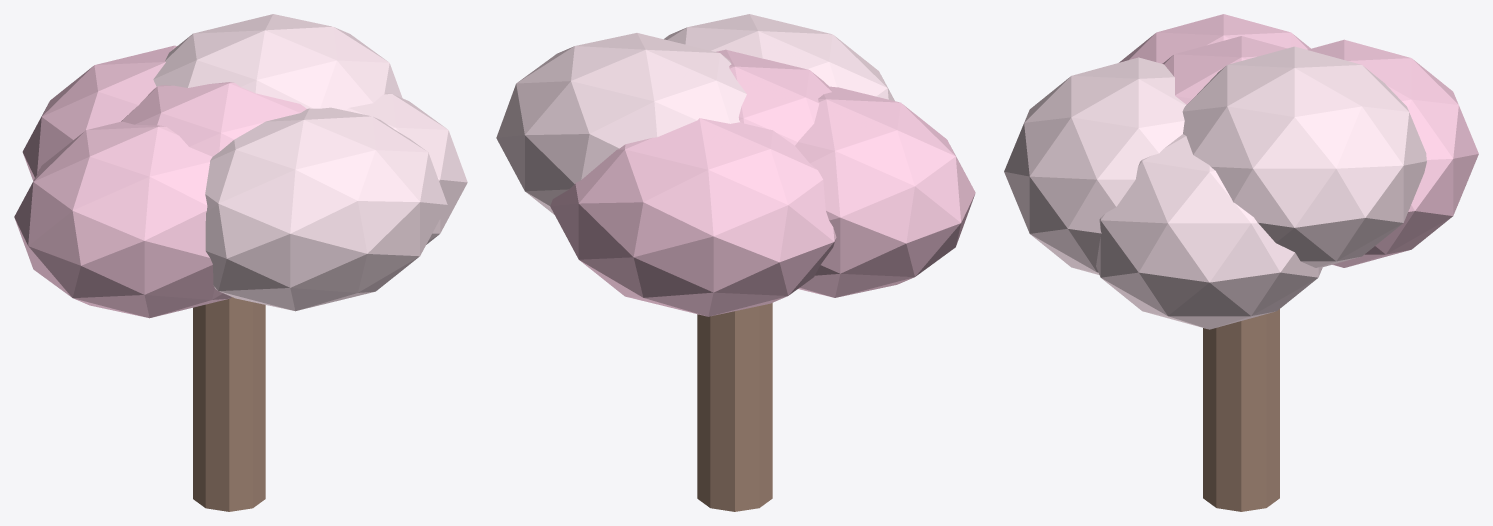
Rendered from tree_sakura.glb.
3 views of the same model, side by side, from view 1: azimuth 30°, elevation 25°; view 2: azimuth 150°, elevation 25°; view 3: azimuth 270°, elevation 25° (orthographic). The views are drawn at different scales.
Visible parts, largest first — view 1: tree_sakura_4, tree_sakura_3, tree_sakura_6, tree_sakura_0, tree_sakura_5, tree_sakura_1, tree_sakura_2; view 2: tree_sakura_5, tree_sakura_3, tree_sakura_6, tree_sakura_0, tree_sakura_4, tree_sakura_1; view 3: tree_sakura_6, tree_sakura_2, tree_sakura_4, tree_sakura_0, tree_sakura_5, tree_sakura_3, tree_sakura_1.
Part boxes in pixels (bbox=[...]): tree_sakura_4: bbox=[205, 107, 447, 311]; tree_sakura_3: bbox=[14, 121, 231, 318]; tree_sakura_6: bbox=[153, 14, 402, 110]; tree_sakura_0: bbox=[193, 297, 265, 511]; tree_sakura_5: bbox=[22, 45, 176, 180]; tree_sakura_1: bbox=[121, 82, 306, 156]; tree_sakura_2: bbox=[346, 93, 467, 244]; tree_sakura_5: bbox=[550, 118, 836, 316]; tree_sakura_3: bbox=[795, 86, 975, 297]; tree_sakura_6: bbox=[496, 33, 746, 214]; tree_sakura_0: bbox=[697, 303, 772, 511]; tree_sakura_4: bbox=[664, 14, 894, 100]; tree_sakura_1: bbox=[716, 49, 831, 145]; tree_sakura_6: bbox=[1182, 46, 1426, 267]; tree_sakura_2: bbox=[1096, 134, 1322, 329]; tree_sakura_4: bbox=[1004, 57, 1186, 274]; tree_sakura_0: bbox=[1203, 309, 1279, 511]; tree_sakura_5: bbox=[1307, 39, 1478, 267]; tree_sakura_3: bbox=[1119, 14, 1310, 63]; tree_sakura_1: bbox=[1162, 36, 1286, 104].
Size of the model in its own units: 2.89 by 2.86 by 2.68.
